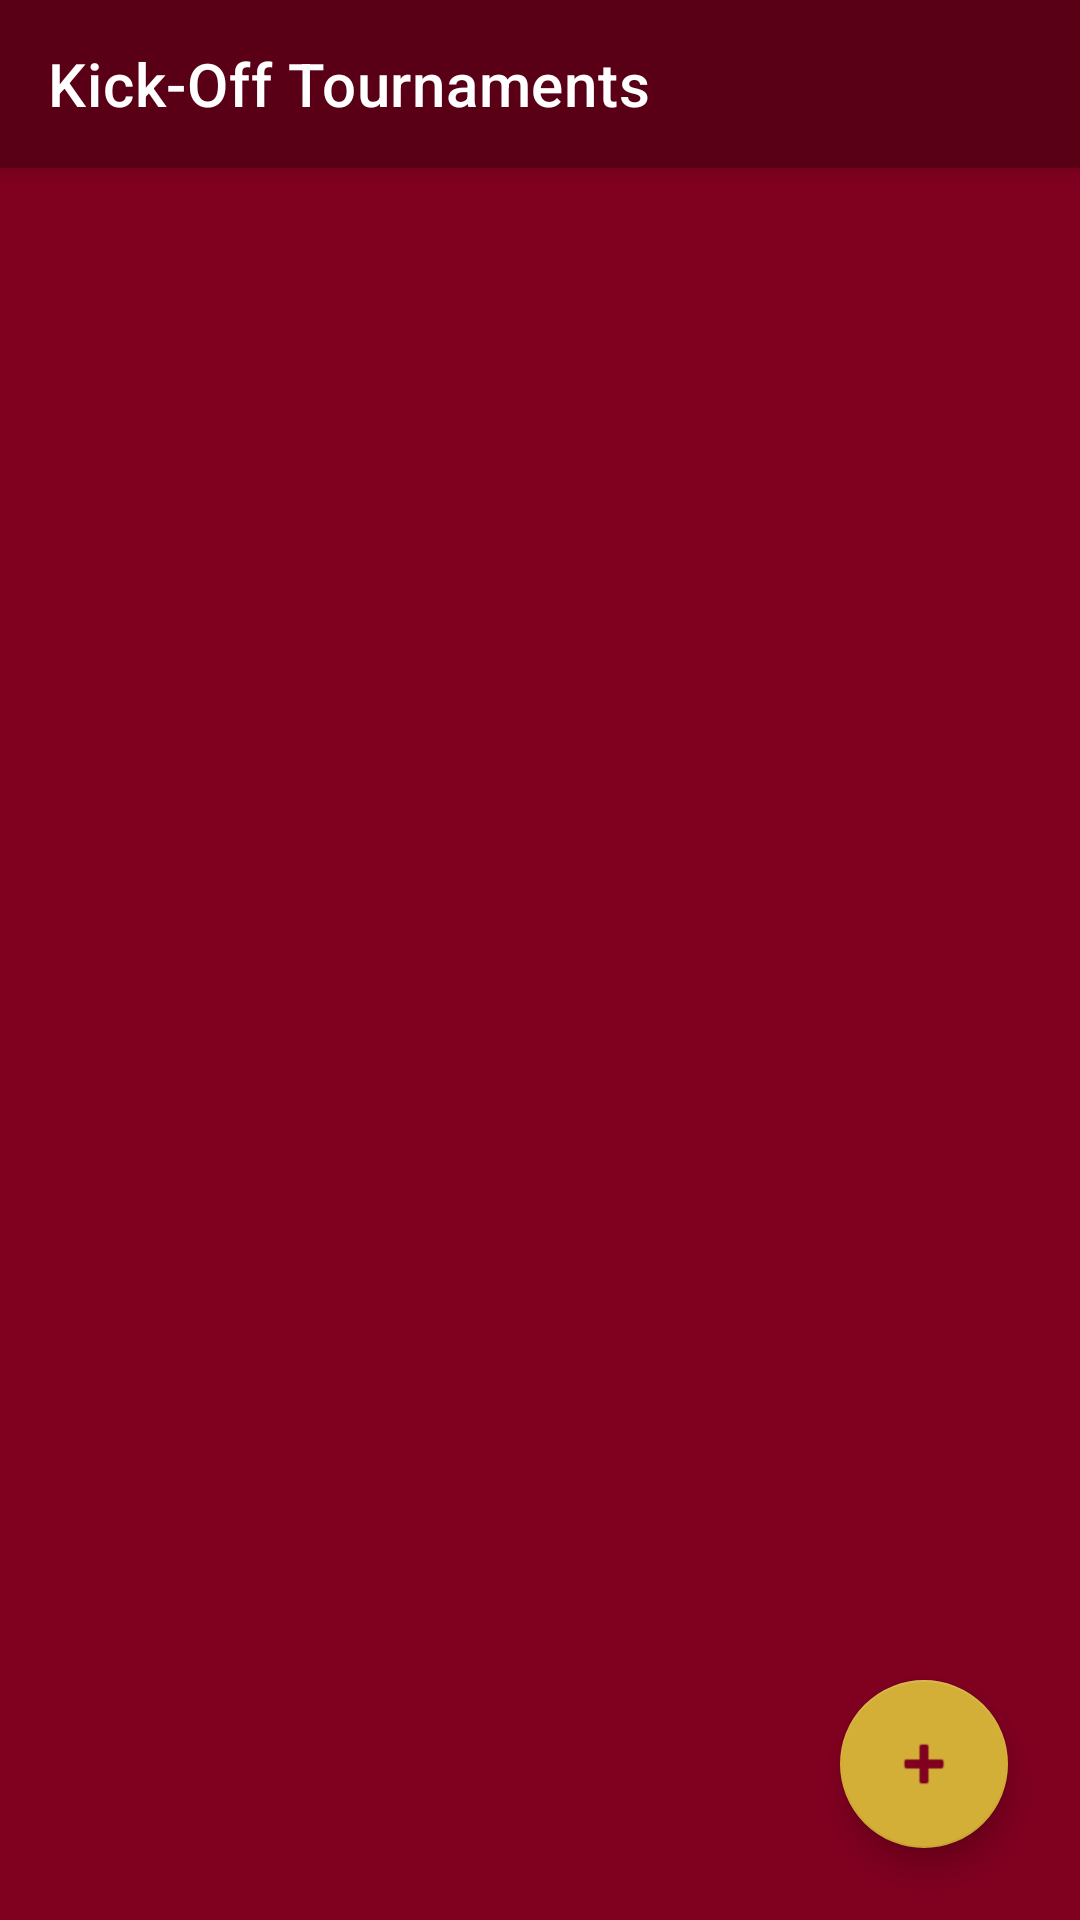

Icons on this 1080x1920 Android screen, each with the point to tap as (x=x, y=y):
Add Tournament: (x=924, y=1764)
